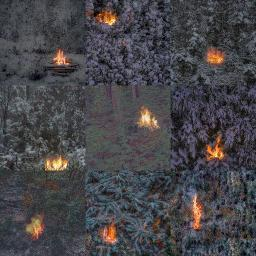Small fire: (132, 93, 168, 138), (42, 43, 87, 76), (202, 126, 230, 170), (40, 147, 75, 182), (184, 185, 208, 236), (201, 40, 231, 75), (18, 209, 47, 243), (89, 3, 121, 33), (99, 218, 123, 250)
